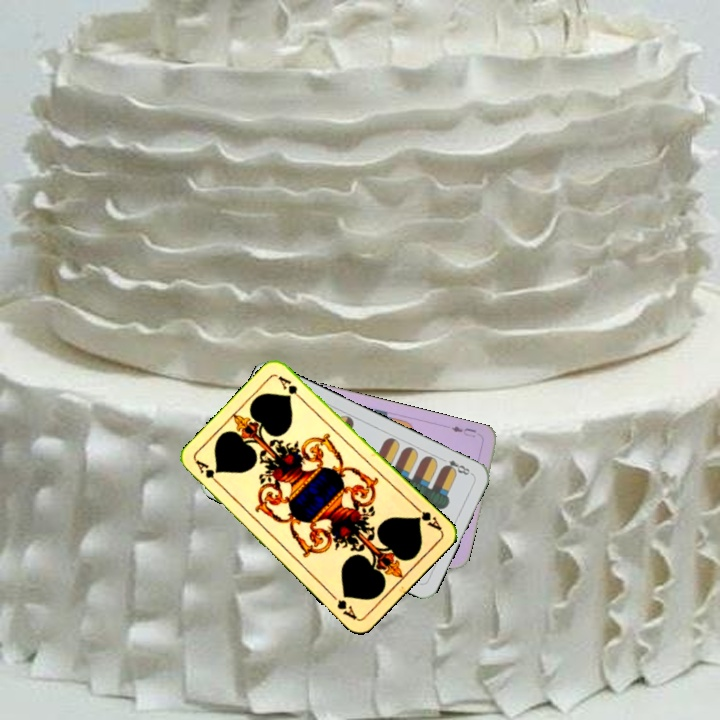E8: (438, 454, 475, 478)
EU: (447, 422, 479, 440)
GA: (191, 456, 224, 489), (410, 502, 444, 533)
